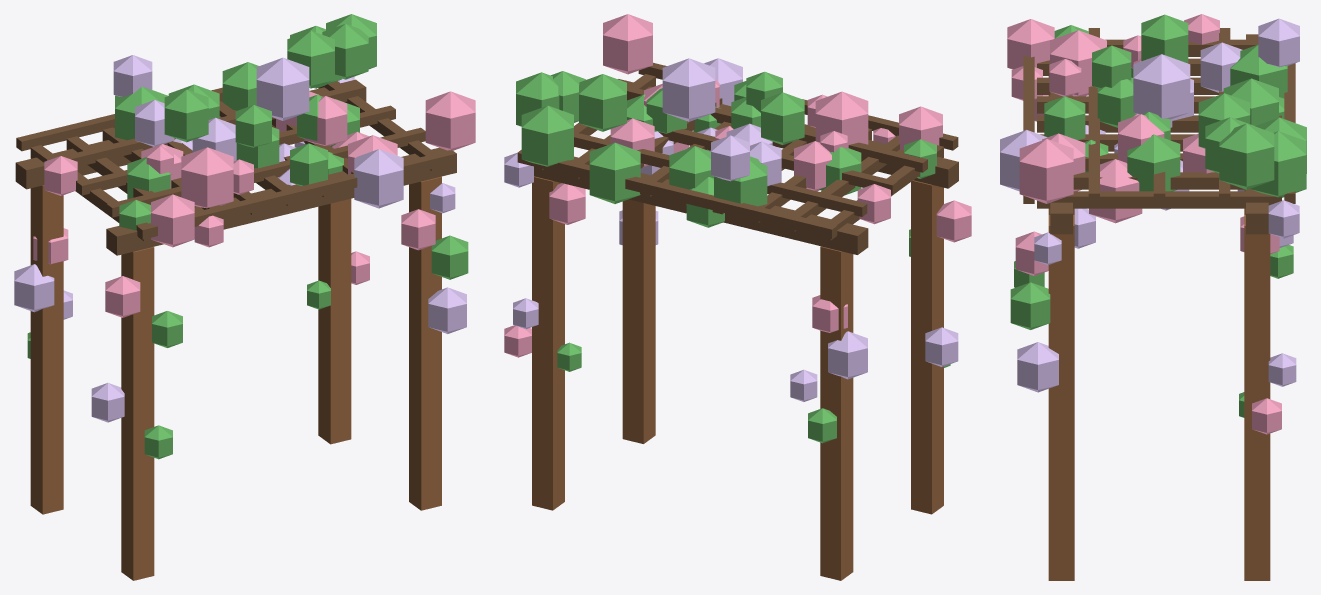
File: xy_isle_pergola.glb
3 renders of one model, left to right at view 1: azimuth 30°, elevation 25°; view 2: azimuth 150°, elevation 25°; view 3: azimuth 270°, elevation 25°, orthographic. The views are drawn at different scales.
Parts seen in each view (by area): view 1: Pergola; view 2: Pergola; view 3: Pergola.
Part boxes in pixels (x1,y1,x2,y2): Pergola: [14, 14, 475, 580]; Pergola: [504, 14, 971, 580]; Pergola: [1000, 14, 1306, 580].
Bounding box in the file's own units: 2.83 × 3.18 × 1.88.
